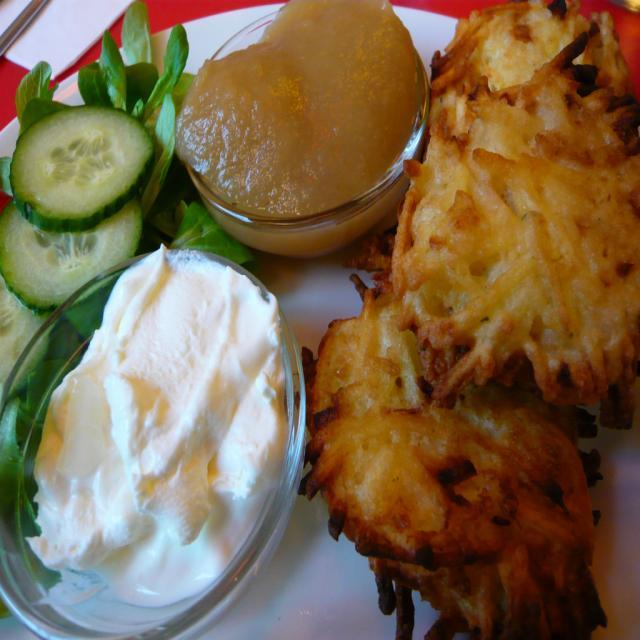Cucumber: (1, 80, 161, 241), (0, 196, 142, 316), (0, 274, 52, 403)
